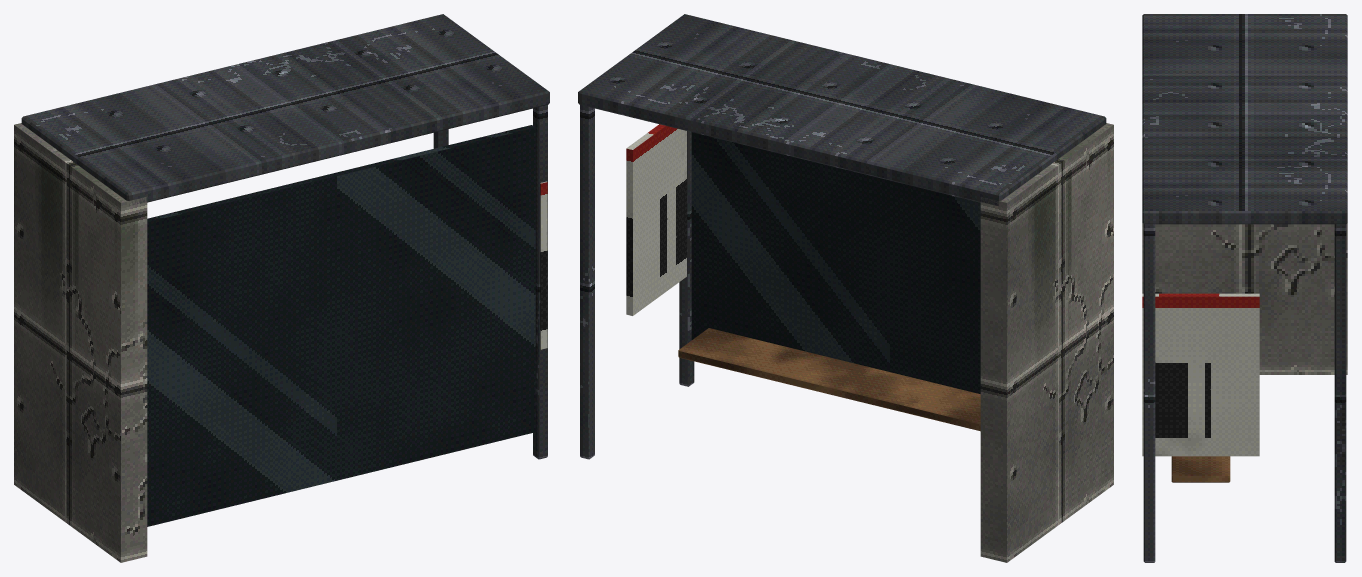
File: prop_bus_stop.glb
The picture shows the model from 3 angles, left to right: view 1: azimuth 30°, elevation 25°; view 2: azimuth 150°, elevation 25°; view 3: azimuth 270°, elevation 25°; orthographic projection. The views are drawn at different scales.
Visible parts, largest first — view 1: prop_bus_stop_mesh, prop_bus_stop_col-colonly.001; view 2: prop_bus_stop_mesh, prop_bus_stop_col-colonly.001; view 3: prop_bus_stop_mesh, prop_bus_stop_col-colonly.001.
Boxes of the visible parts, x1,y1,x2,y2 form: prop_bus_stop_mesh: (21, 14, 549, 526); prop_bus_stop_col-colonly.001: (14, 123, 147, 562); prop_bus_stop_mesh: (578, 14, 1106, 459); prop_bus_stop_col-colonly.001: (980, 123, 1113, 562); prop_bus_stop_mesh: (1142, 14, 1347, 562); prop_bus_stop_col-colonly.001: (1142, 223, 1347, 374).
Size of what is drawn, in the model's own units: 3.25 by 2.65 by 1.4.
5 materials, 5 textured.
